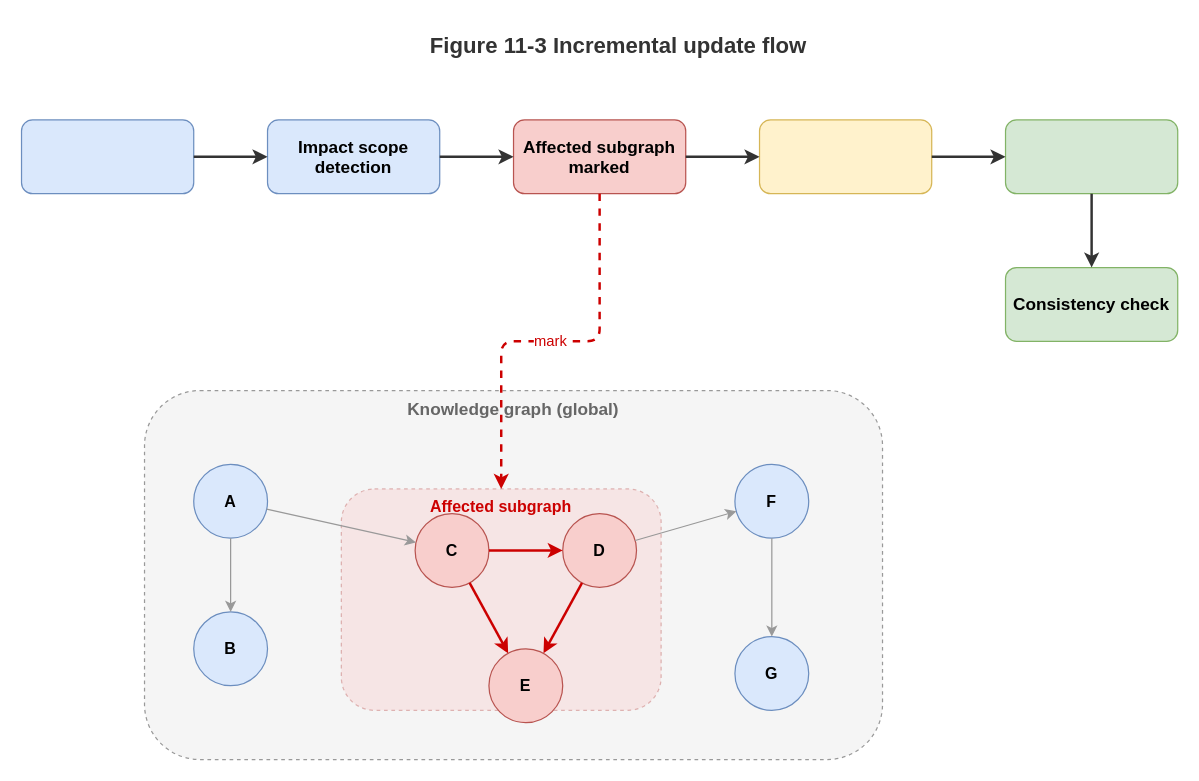
This 1199x781 diagram has some shape labels left out. The shapes that lost their labels are listed below. From the top down, each one's centre as x and y in pixels, then its label:
At pixel 107 156: "New event arrives".
At pixel 845 156: "Local re-reasoning".
At pixel 1091 156: "Graph update".
